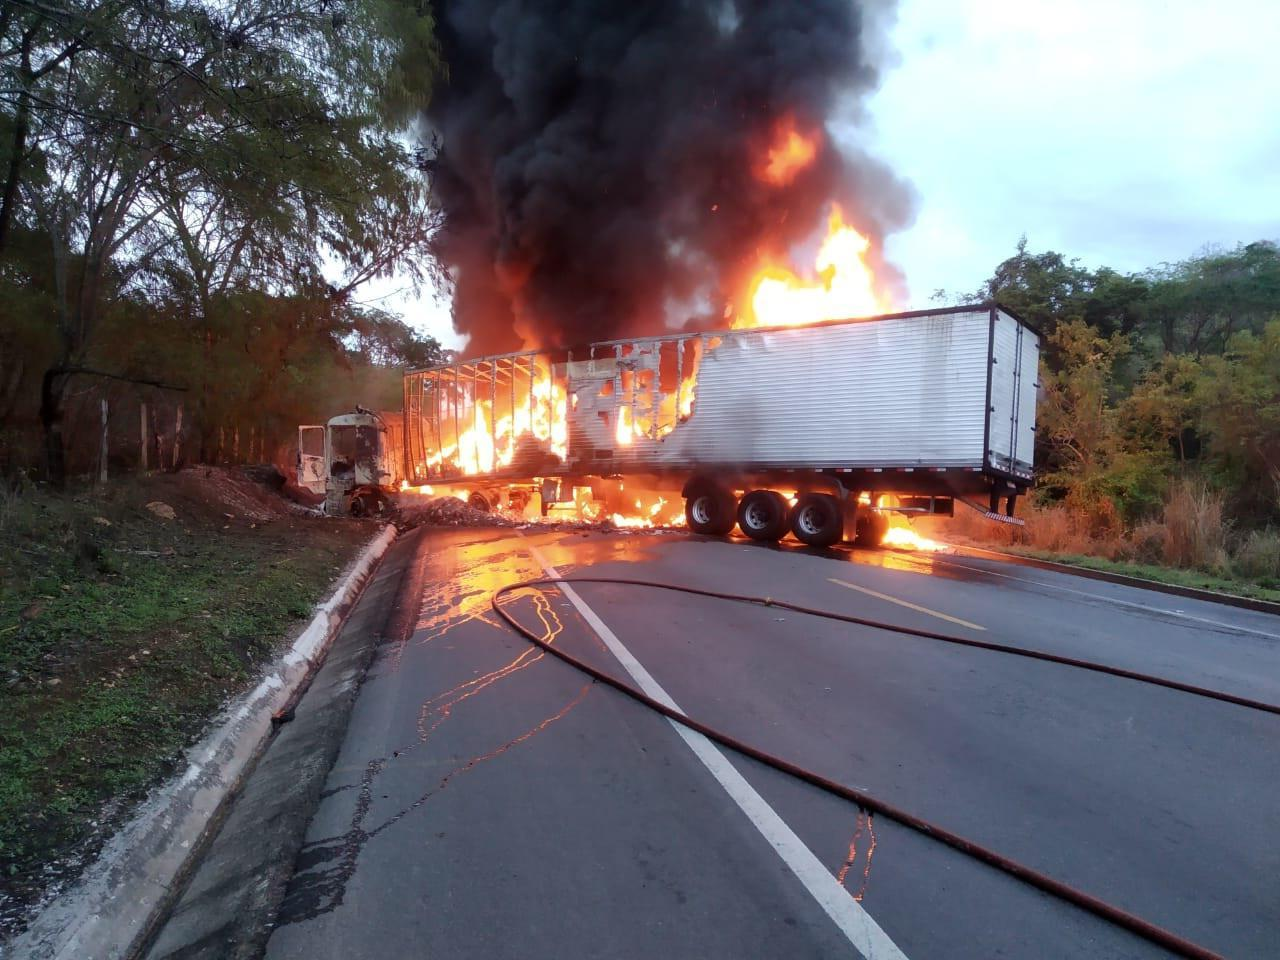Fire: (741, 204, 896, 334), (415, 370, 568, 475), (612, 380, 702, 447), (764, 129, 819, 182), (609, 500, 684, 533), (547, 486, 603, 521), (400, 478, 472, 505), (880, 527, 946, 547)
